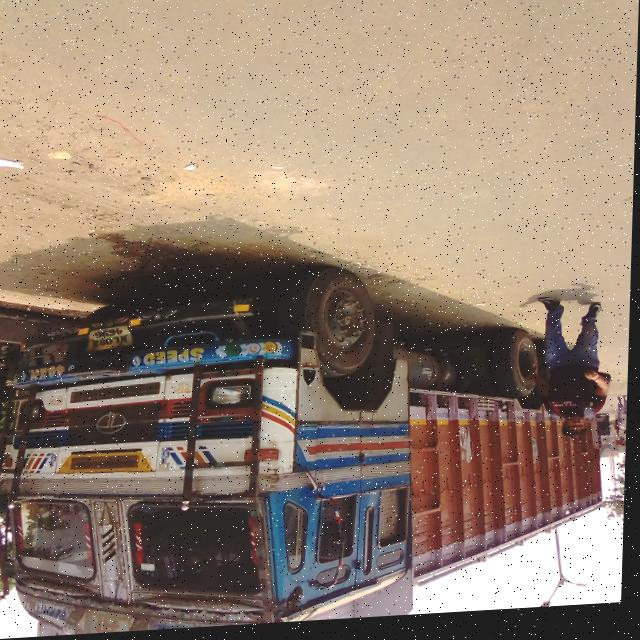plate: (86, 327, 134, 354)
